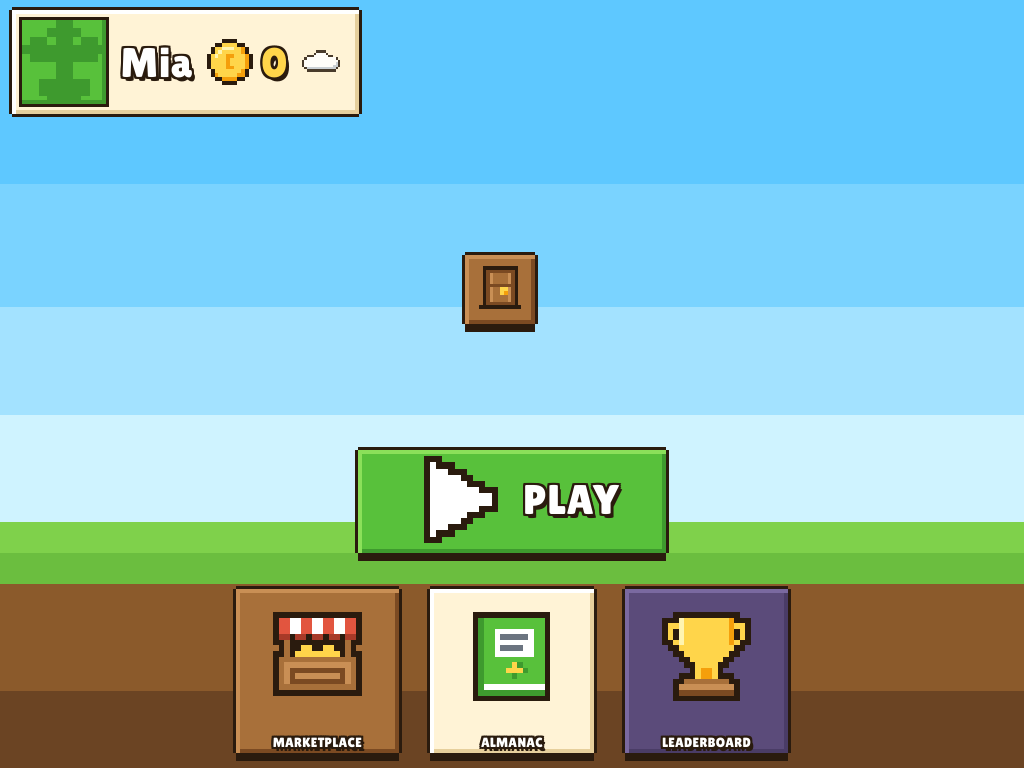
Test: Play menu › Home's Play opens three big picture buttons: Adventure, Quick Battle, Free Play
Click the button "Play" at point(455, 500), box 358,450 -> 666,553
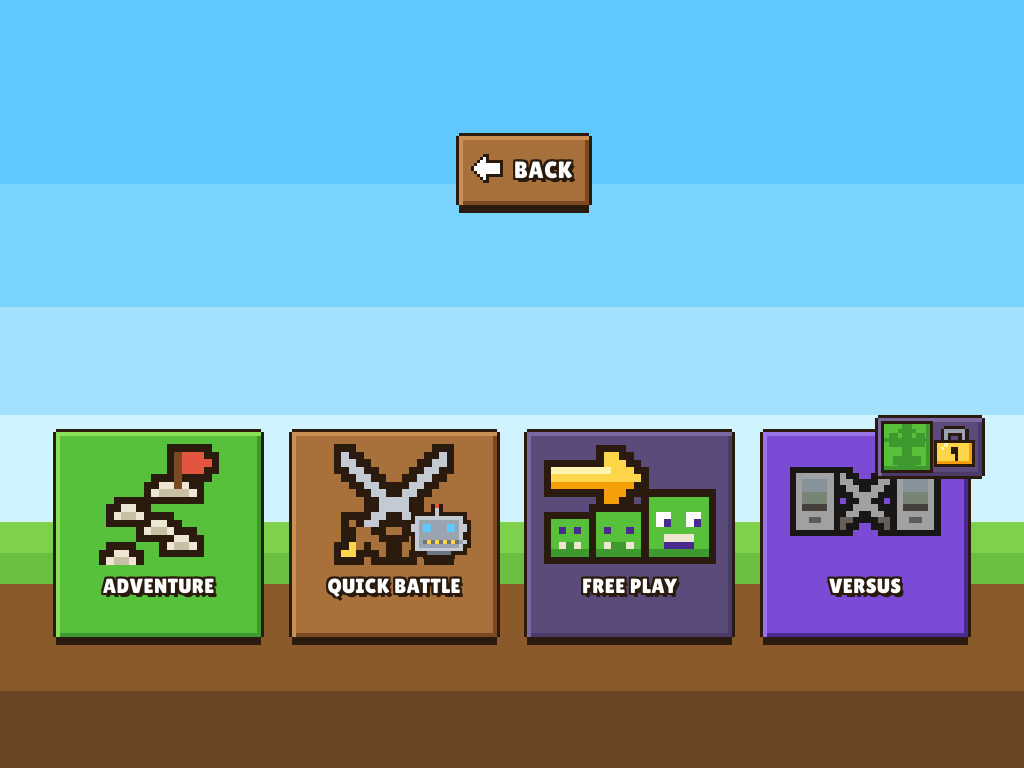
Now the button "Adventure" is shown, box 56,432 -> 261,637
Now the button "Quick Battle" is shown, box 292,432 -> 497,637
Now the button "Free Play" is shown, box 527,432 -> 732,637
